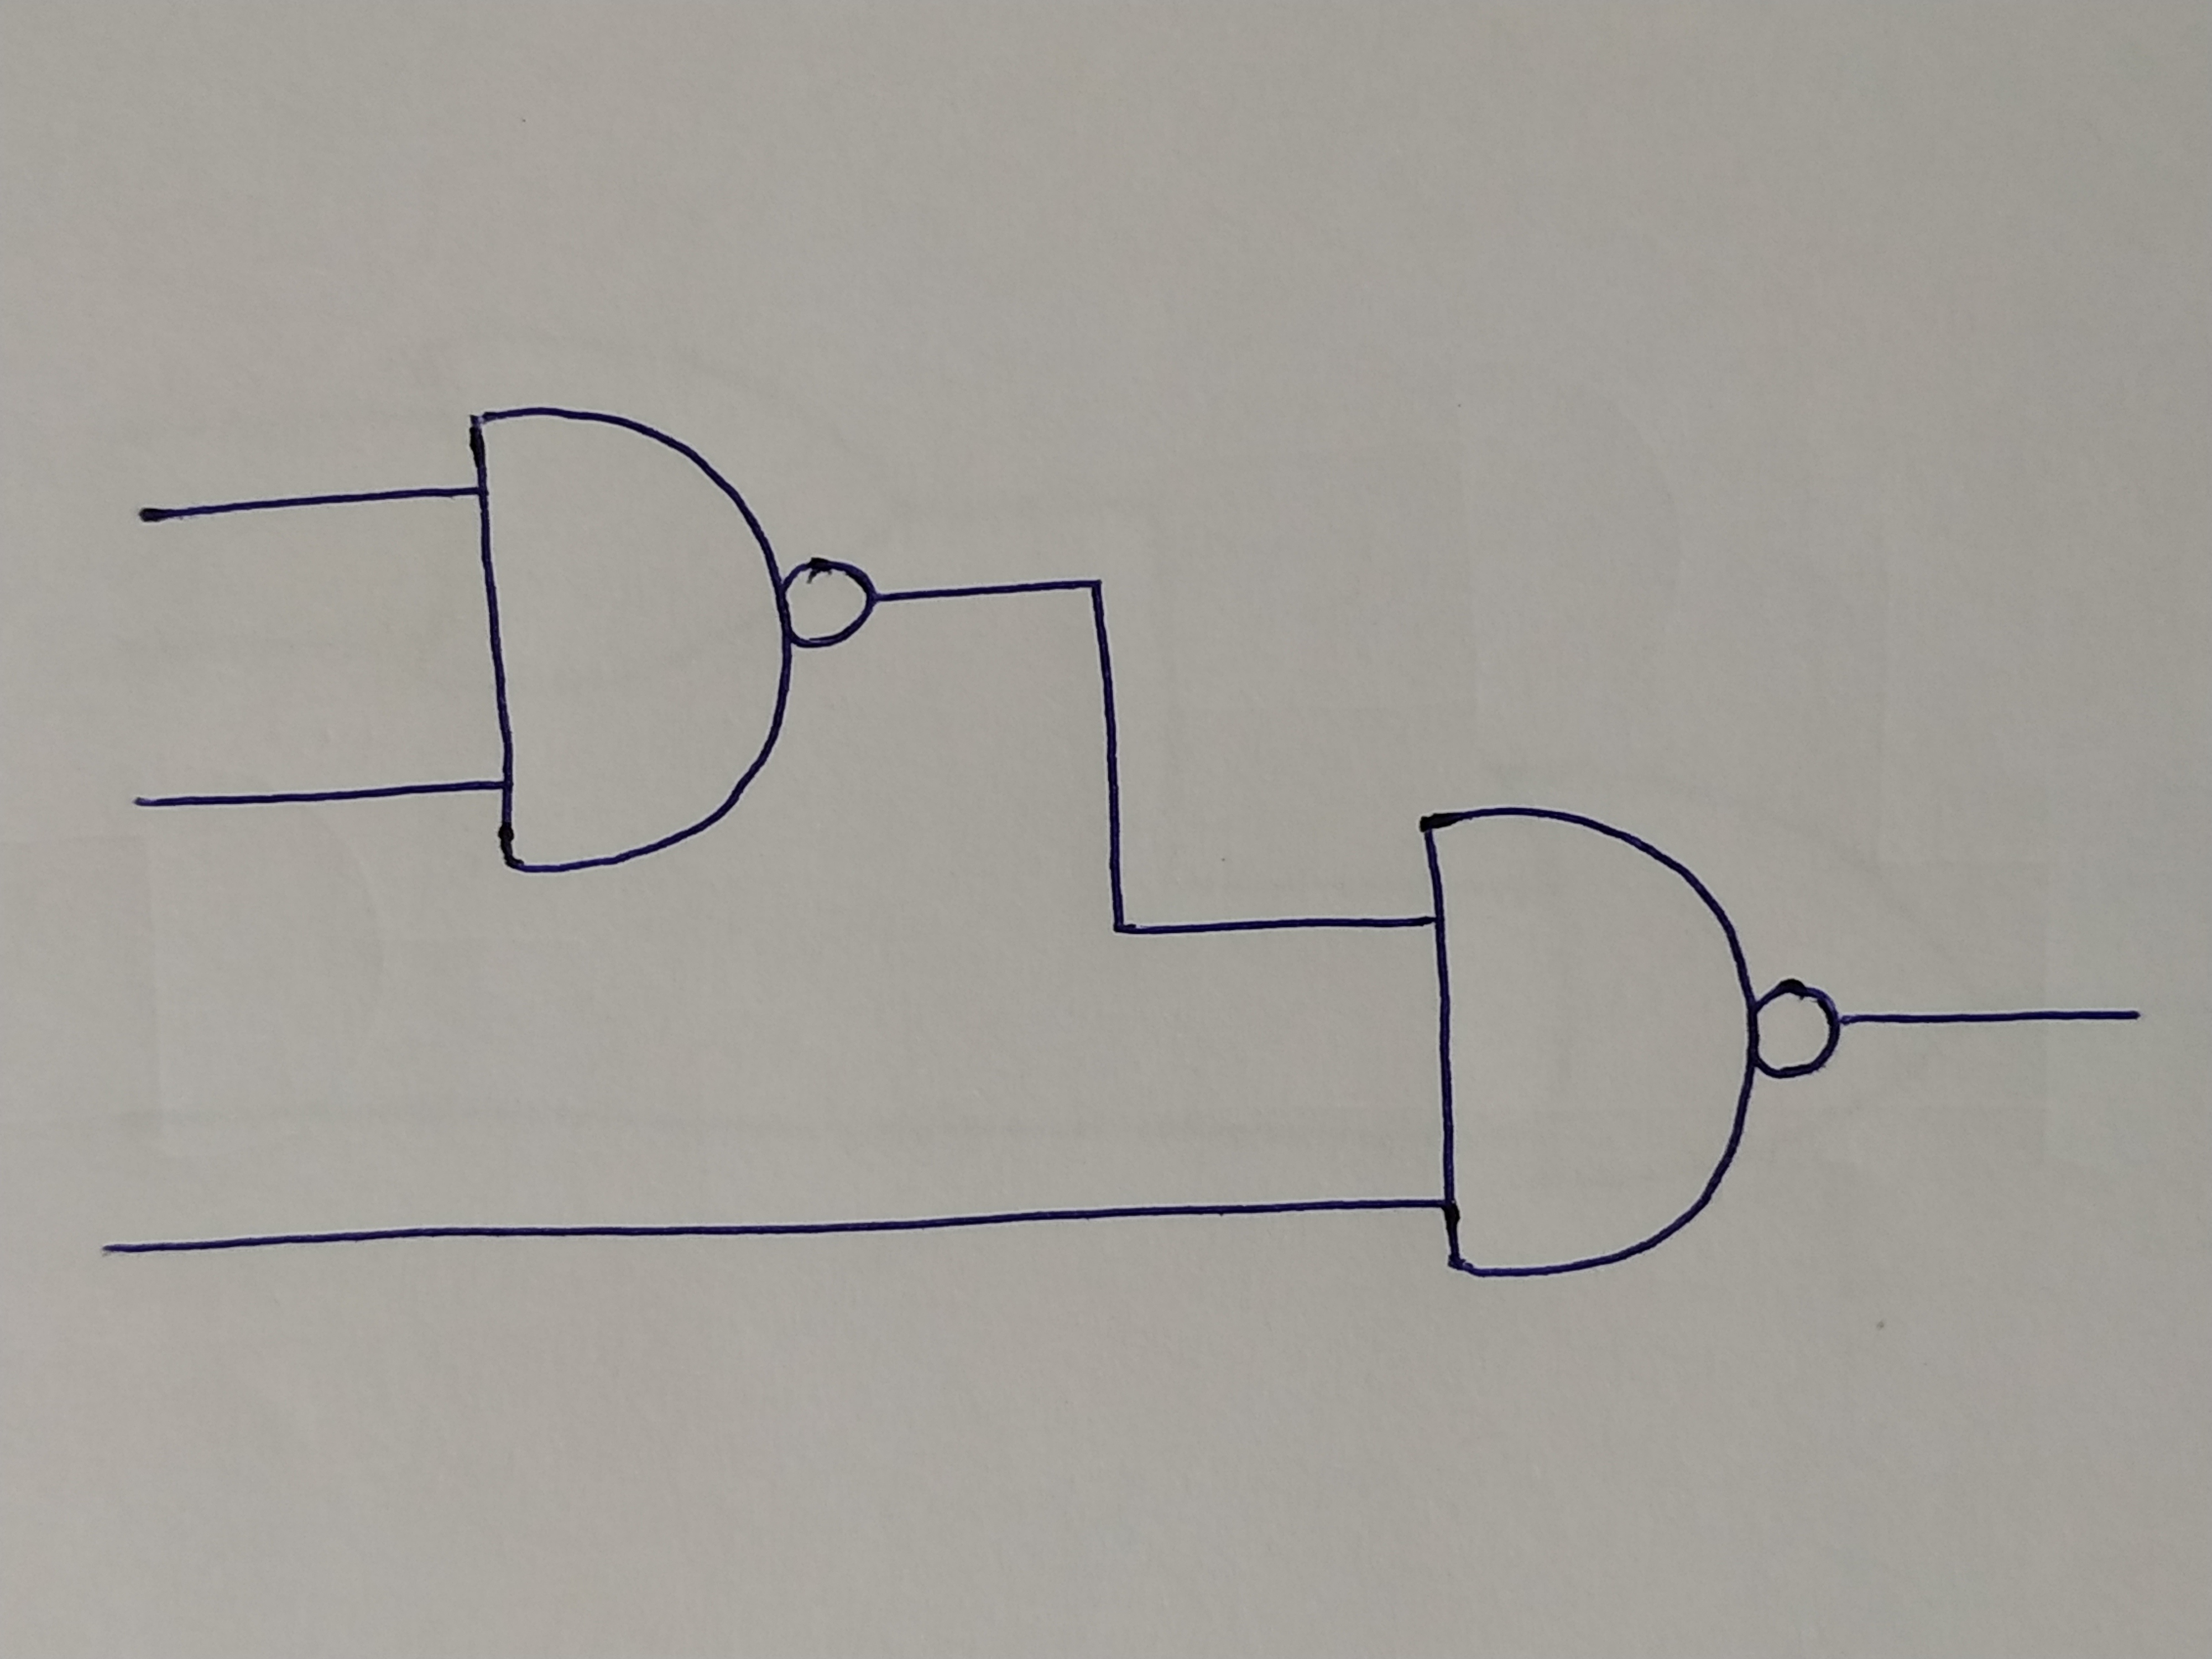and: (1416, 803, 1754, 1276), (460, 404, 784, 871)
not: (784, 559, 869, 643), (1757, 983, 1838, 1072)
